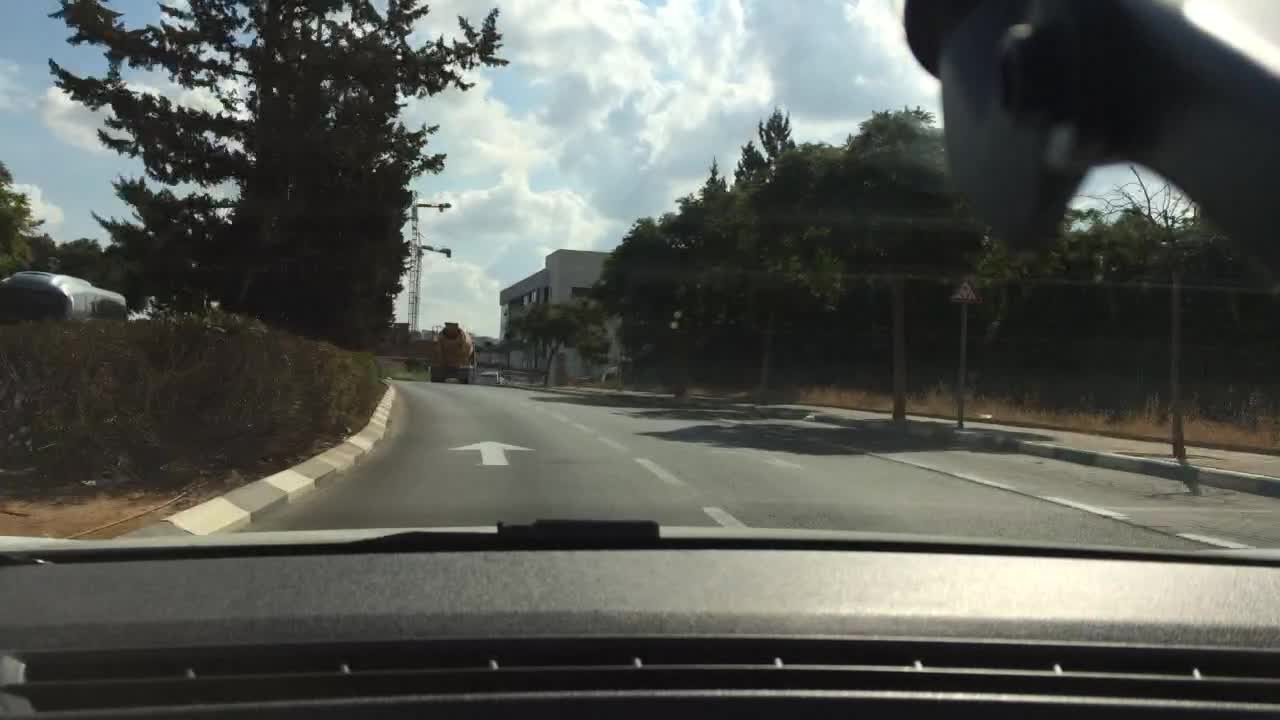car: (0, 270, 128, 327), (476, 367, 502, 386)
traffic sign: (948, 282, 985, 303)
truck: (428, 321, 469, 384)
